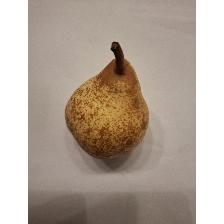Birne: (60, 38, 150, 162)
